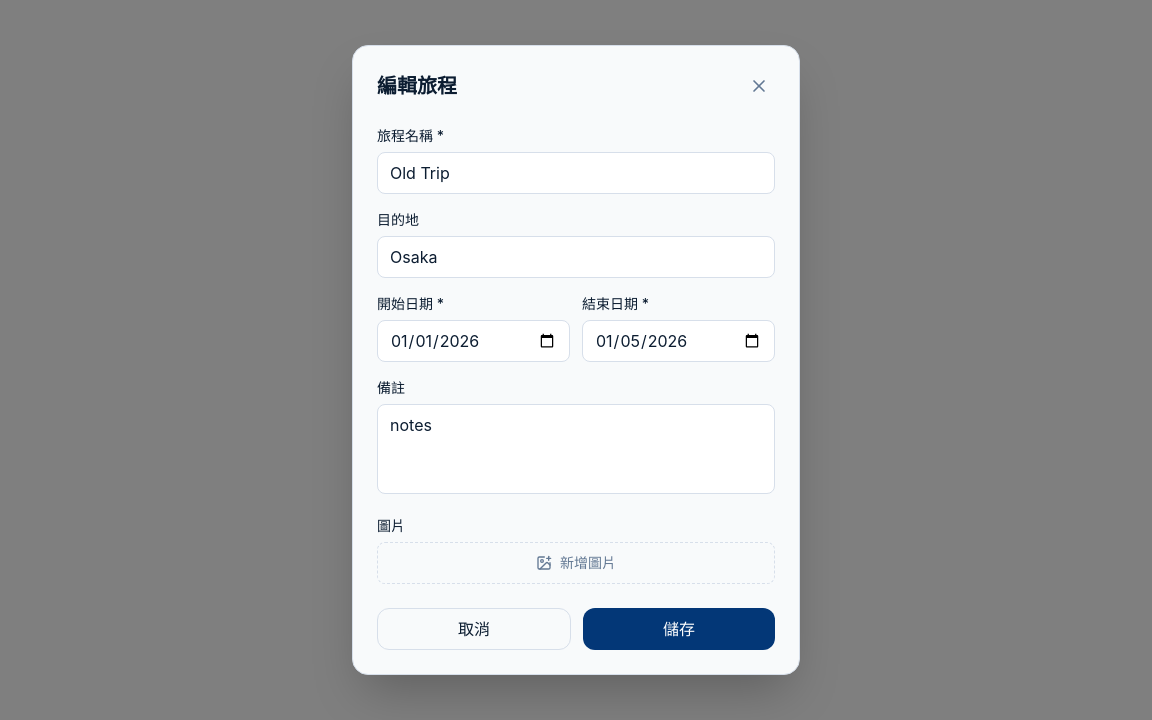
Test case: EditTripModal › returns to the form without updating when the confirmation is cancelled
Type "2026-01-03" into the date field named "endDate" below "結束日期 *" at (678,341), box [582,320,775,362]
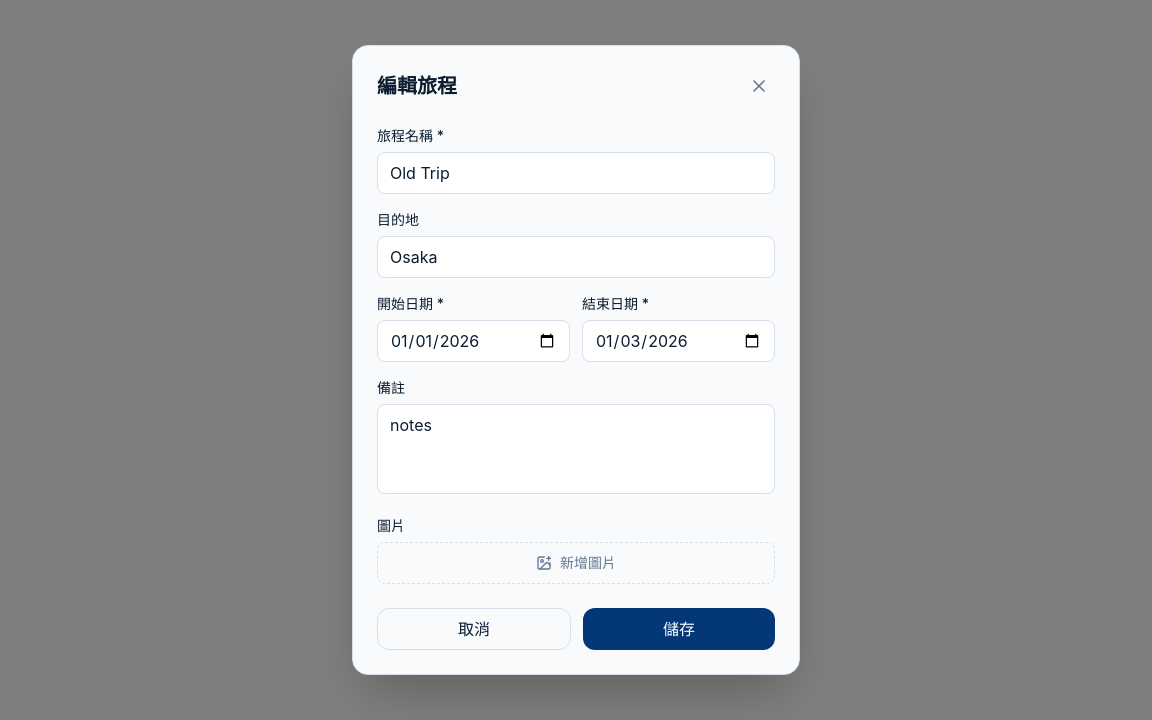
Submit the form, box [377,126,775,650]
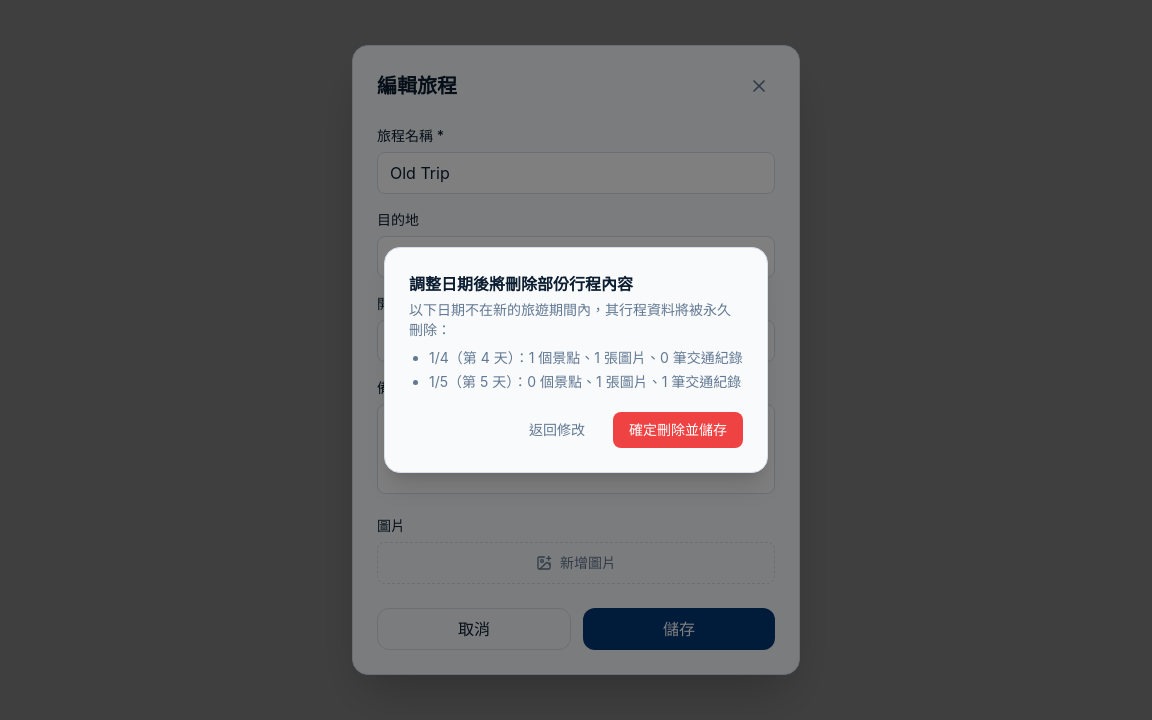
Now the text "調整日期後將刪除部份行程內容" is shown, box [409,274,633,294]
Click the button "返回修改" at (557,430), box [513,412,601,448]
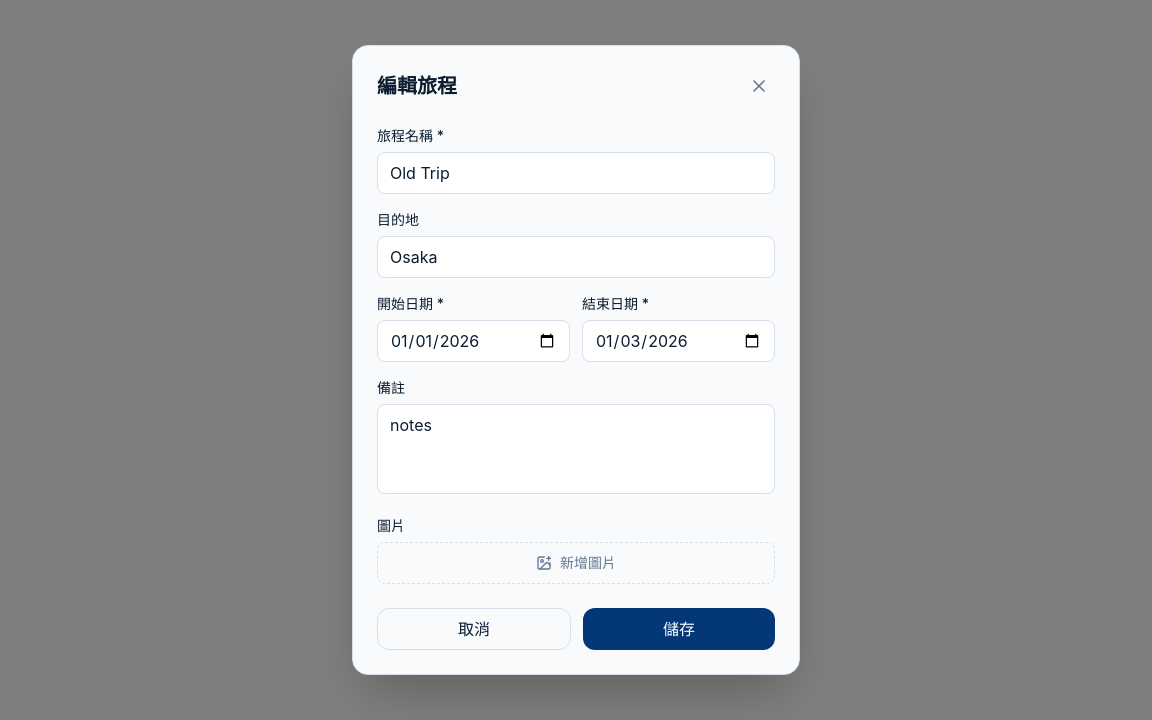
Now the text "調整日期後將刪除部份行程內容" is gone
